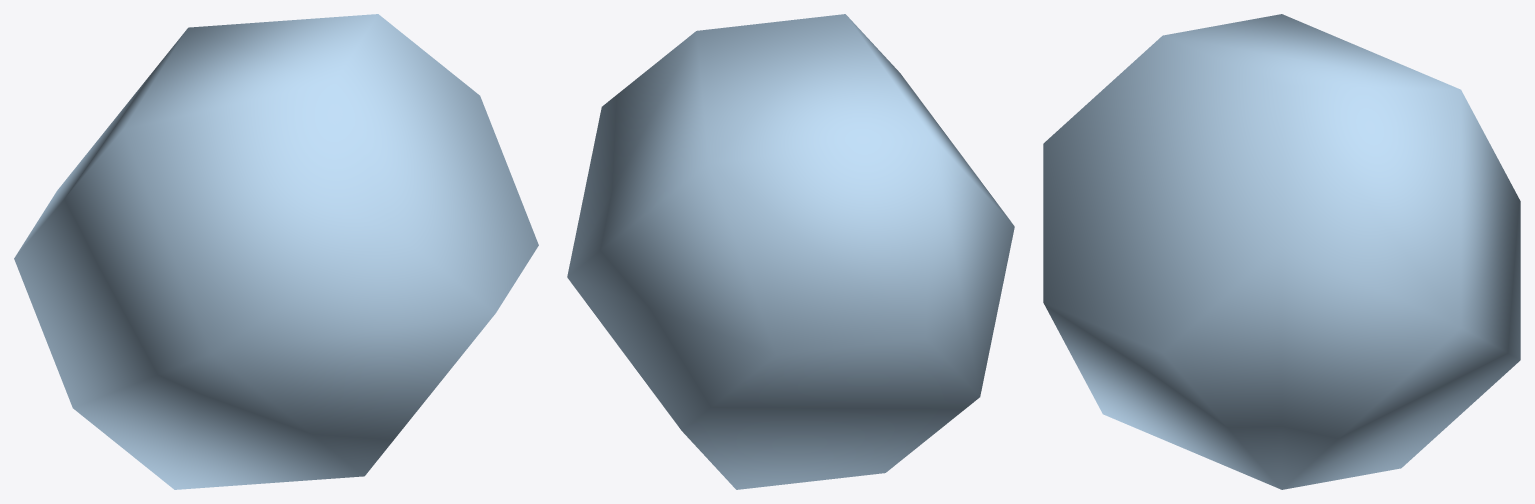
The model's file is fluorite-twin.glb.
3 views of the same model, side by side, from view 1: azimuth 30°, elevation 25°; view 2: azimuth 150°, elevation 25°; view 3: azimuth 270°, elevation 25° (orthographic). The views are drawn at different scales.
Visible parts, largest first — view 1: fluorite-twin; view 2: fluorite-twin; view 3: fluorite-twin.
Boxes of the visible parts, x1=… form: fluorite-twin: x1=14, y1=14, x2=538, y2=489; fluorite-twin: x1=567, y1=14, x2=1014, y2=489; fluorite-twin: x1=1043, y1=14, x2=1520, y2=489.
Size of the model in its own units: 1.85 by 1.85 by 1.85.
